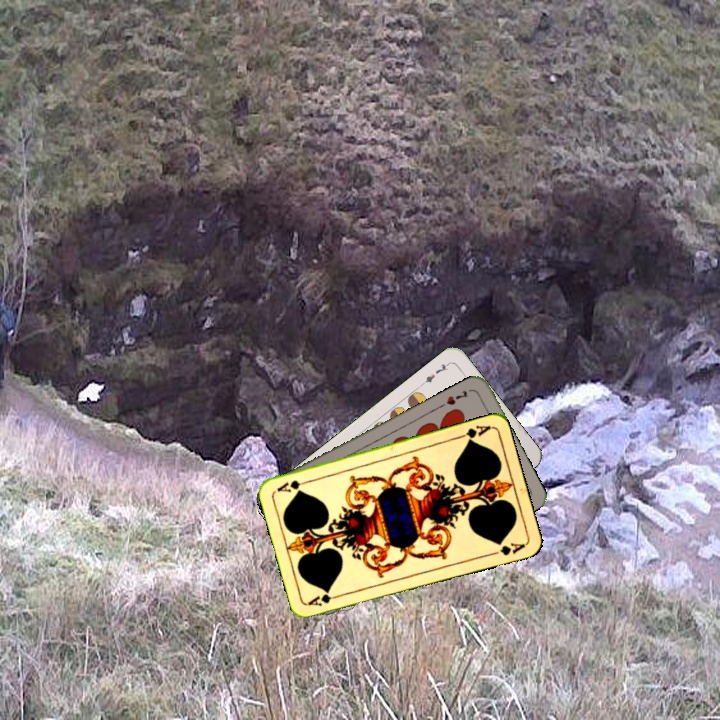E7: (417, 358, 452, 387)
GA: (453, 421, 493, 445), (304, 590, 345, 609)
H7: (442, 386, 470, 408)
